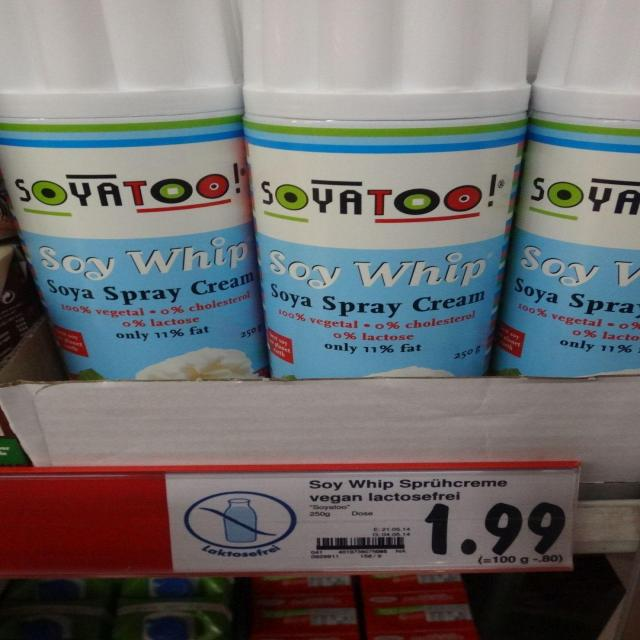cream: (243, 0, 529, 379), (0, 0, 267, 380), (494, 0, 639, 377)
milk: (111, 599, 231, 640), (0, 601, 114, 640), (119, 577, 238, 602), (5, 578, 115, 602)
